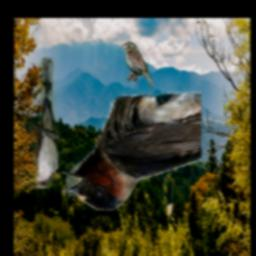Cuckoo: (30, 58, 59, 189)
Sparrow: (122, 43, 154, 89)
Swallow: (61, 91, 201, 210)
